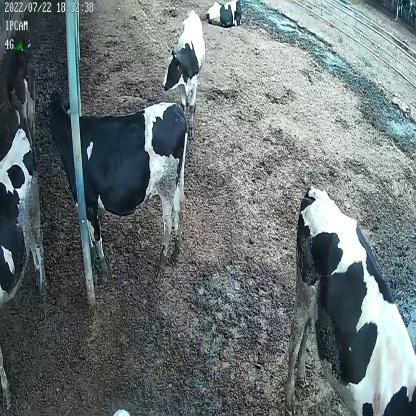cow: (284, 183, 415, 416), (46, 90, 188, 278), (161, 11, 205, 132), (5, 29, 36, 135), (205, 1, 243, 29)
